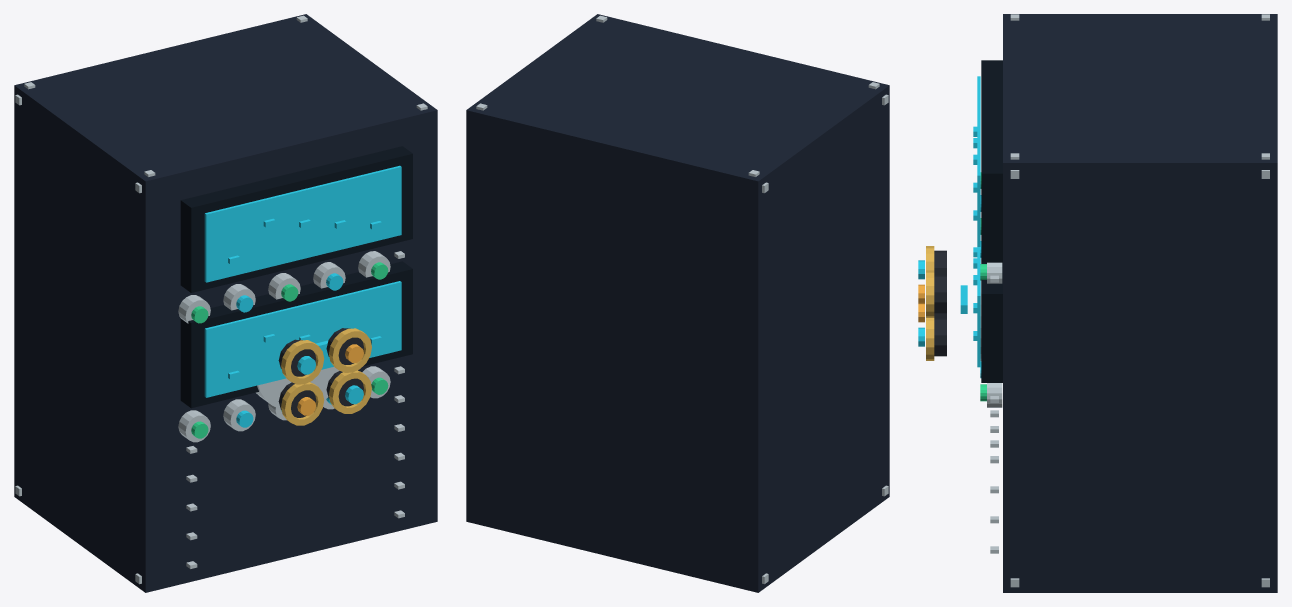
Rendered from 56_L82_SpreadSpectrumClockController.fbx.
3 views of the same model, side by side, from view 1: azimuth 30°, elevation 25°; view 2: azimuth 150°, elevation 25°; view 3: azimuth 270°, elevation 25° (orthographic). The views are drawn at different scales.
Visible parts, largest first — view 1: SpreadSpectrumClockController, SpreadSpectrumClockController_Part_0069; view 2: SpreadSpectrumClockController; view 3: SpreadSpectrumClockController.
Boxes of the visible parts, <box> form: SpreadSpectrumClockController: <box>14,14,437,592</box>; SpreadSpectrumClockController_Part_0069: <box>256,367,339,409</box>; SpreadSpectrumClockController: <box>466,14,889,592</box>; SpreadSpectrumClockController: <box>918,14,1277,592</box>.
Bounding box in the file's own units: 106 × 142 × 106.
